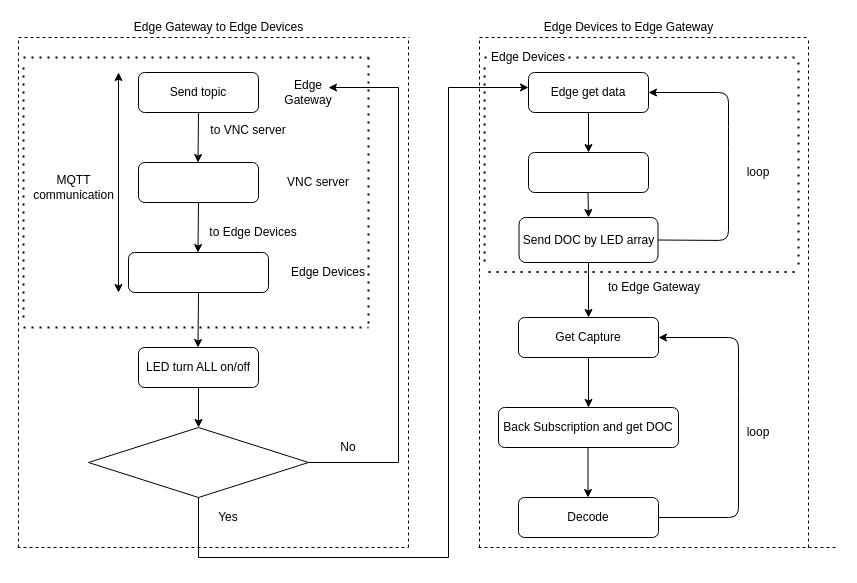
Image size: 857x583. Some labels were removed from this diagram. Here are the shapes that lost their labels. From the top down, the centre of each, then its label:
At point (198, 182): "Get & Send".
At point (588, 172): "Encode".
At point (198, 272): "Edge Devices get topic".
At point (198, 462): "Detect Positions of Edge Device".
